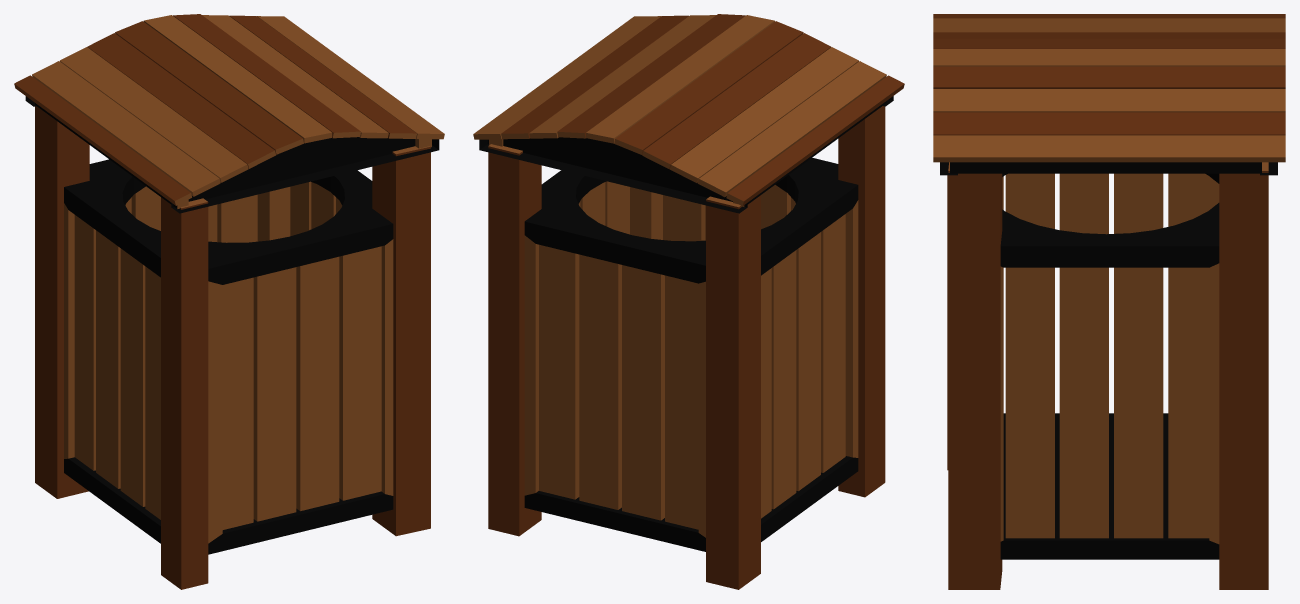
The model's file is RUBBISH.gltf.
3 renders of one model, left to right at view 1: azimuth 30°, elevation 25°; view 2: azimuth 150°, elevation 25°; view 3: azimuth 270°, elevation 25°, orthographic. The views are drawn at different scales.
Visible parts, largest first — view 1: Cube.042; view 2: Cube.042; view 3: Cube.042.
Boxes of the visible parts, left/top/right/bottom form: Cube.042: left=14, top=14, right=444, bottom=589; Cube.042: left=473, top=14, right=904, bottom=589; Cube.042: left=933, top=14, right=1285, bottom=589.
Size of the model in its own units: 0.7903 by 1.2 by 0.8139.
